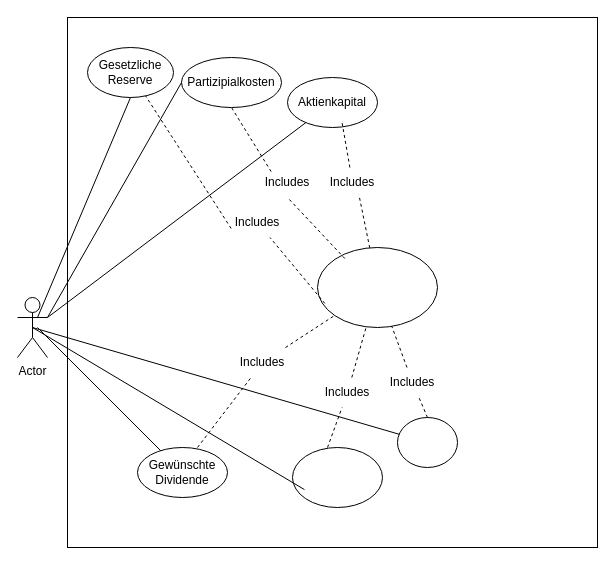
The diagram is 615 pixels wide and 565 high, and some of its shapes have lost their labels. The box of each missing label's shape, as (x1, y1, x2, y2) in pixels:
Berechne Gewinnverteilung: (316, 246, 438, 328)
Dividende: (396, 416, 458, 468)
Gewinnvortrag: (292, 446, 382, 508)
